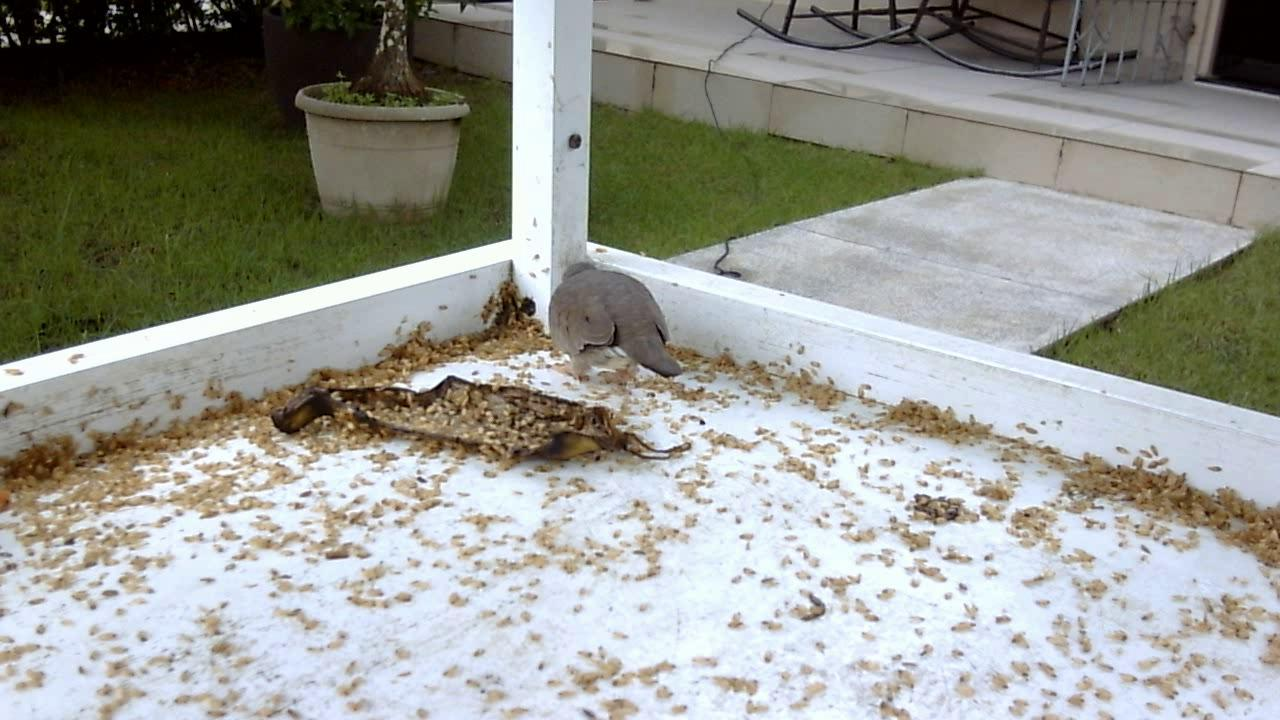rolinha: (542, 263, 684, 389)
